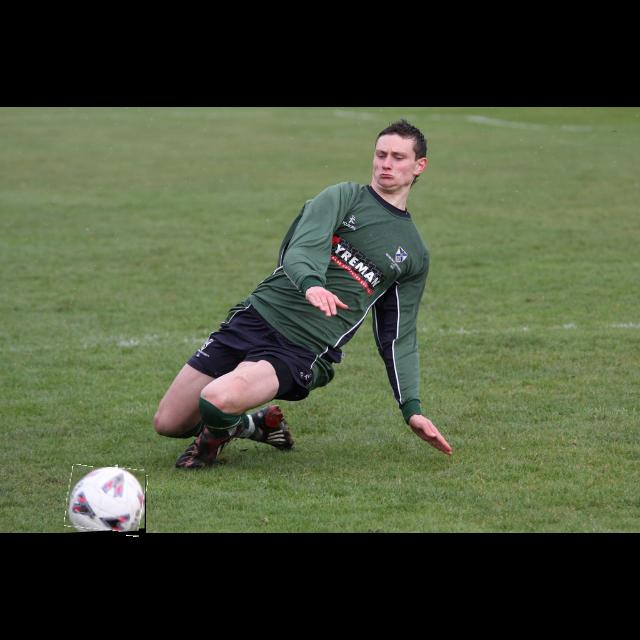Football: (66, 467, 146, 535)
